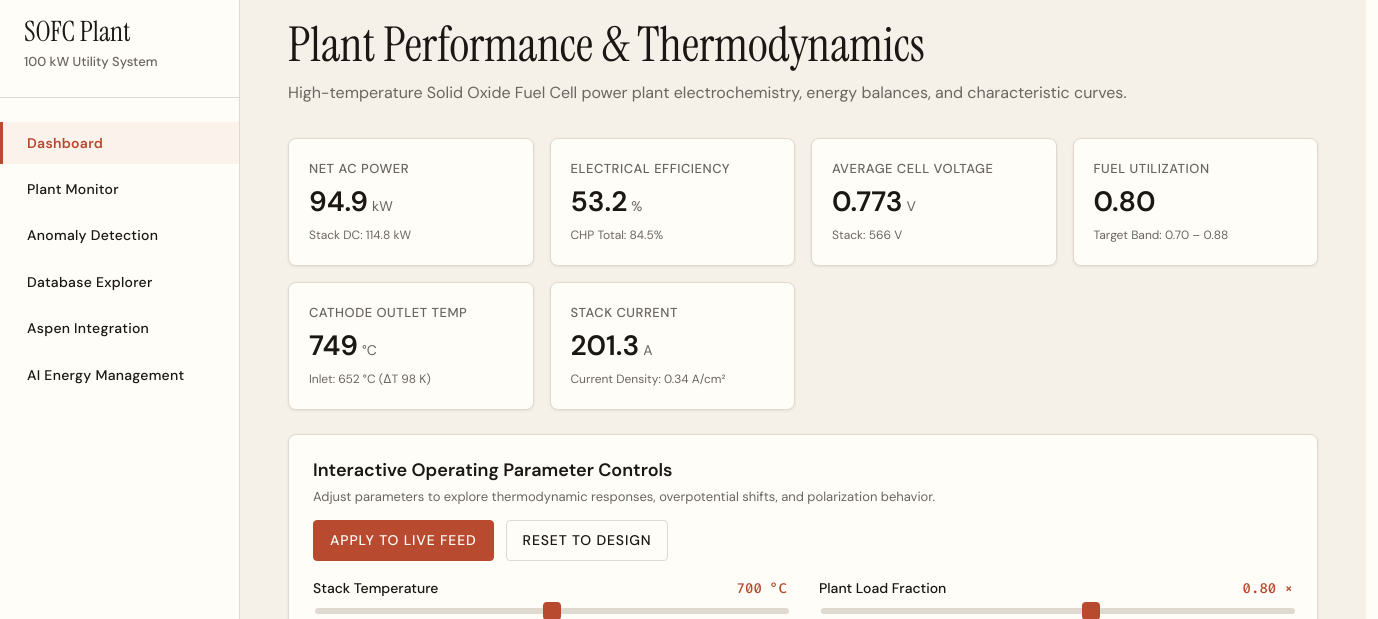
Test: SOFC Monitor Routed App › switches detail view when a utility is selected in Plant Monitor
This screenshot has width=1378, height=619.
Click the link "Plant Monitor" at (73, 189), box 27,180 -> 119,198
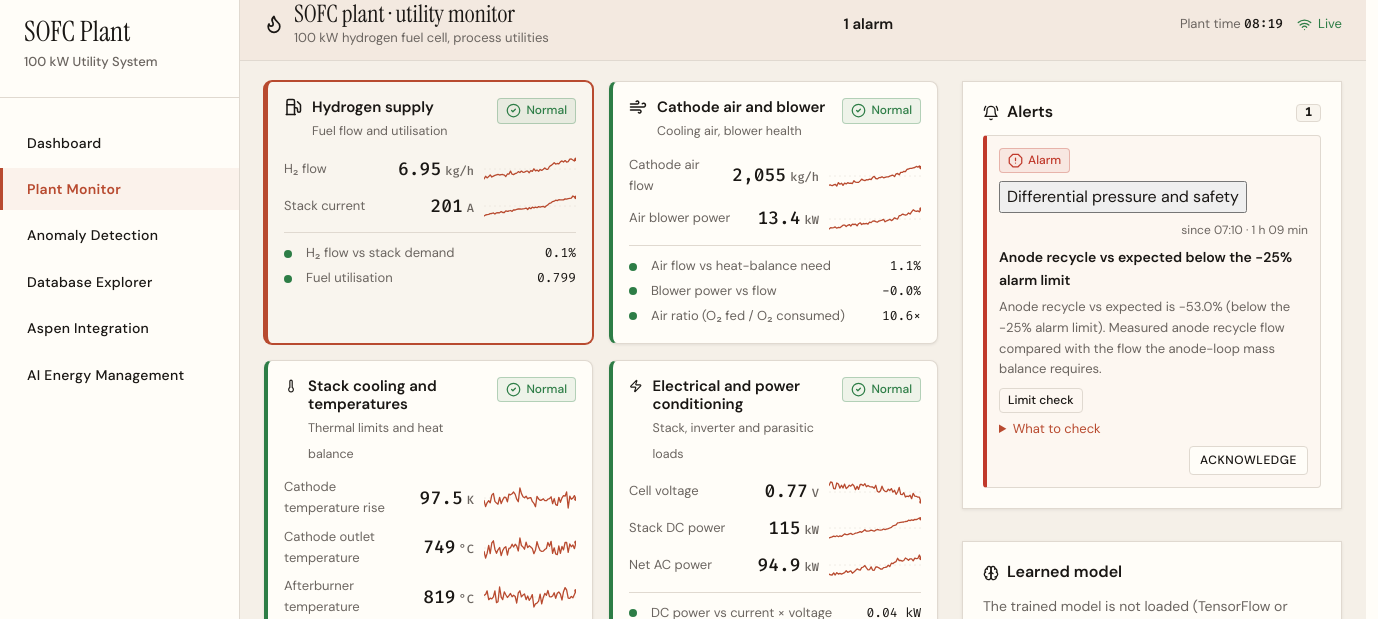
Click the button "Cathode air and blower Cooling air, blower health" at (727, 121), box 629,98 -> 825,143
(page scrolled)
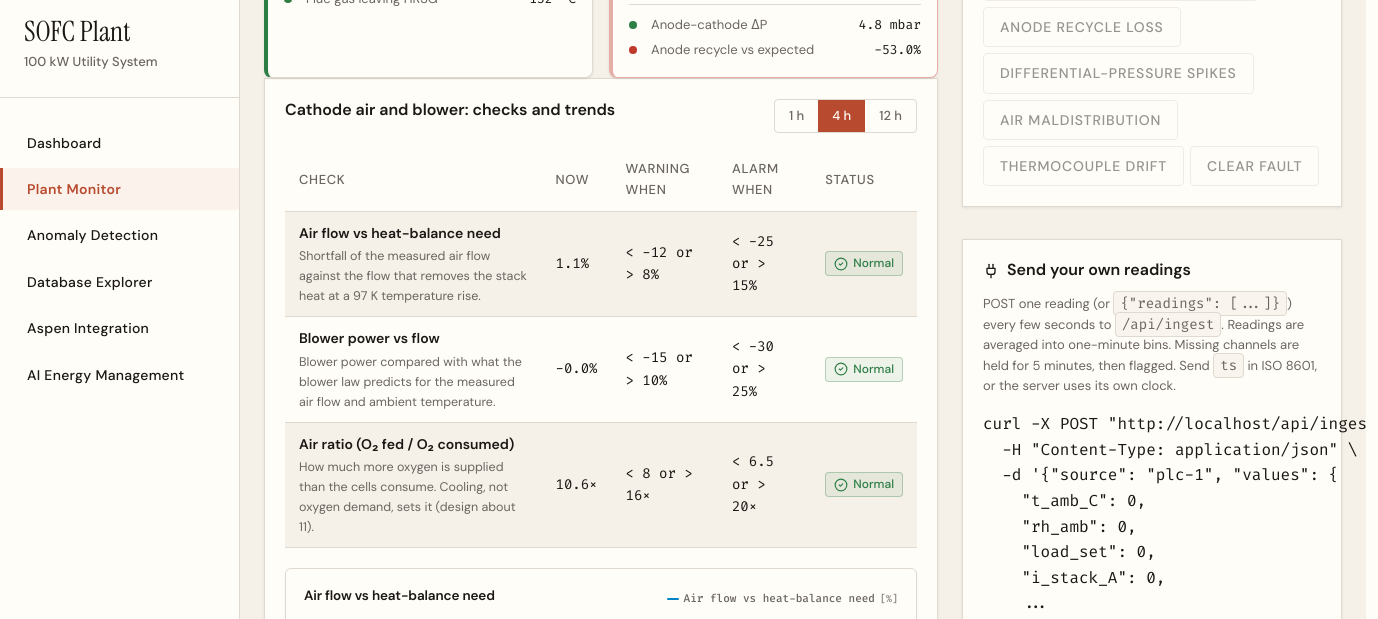
Expected: the heading "Cathode air and blower: checks and trends" is shown, 285,100 -> 615,120
Expected: the text "< -15 or > 10%" is shown, 612,317 -> 718,422
